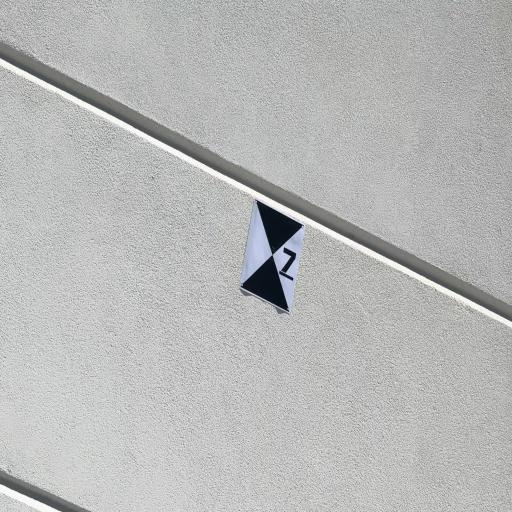target7: (240, 198, 305, 314)
